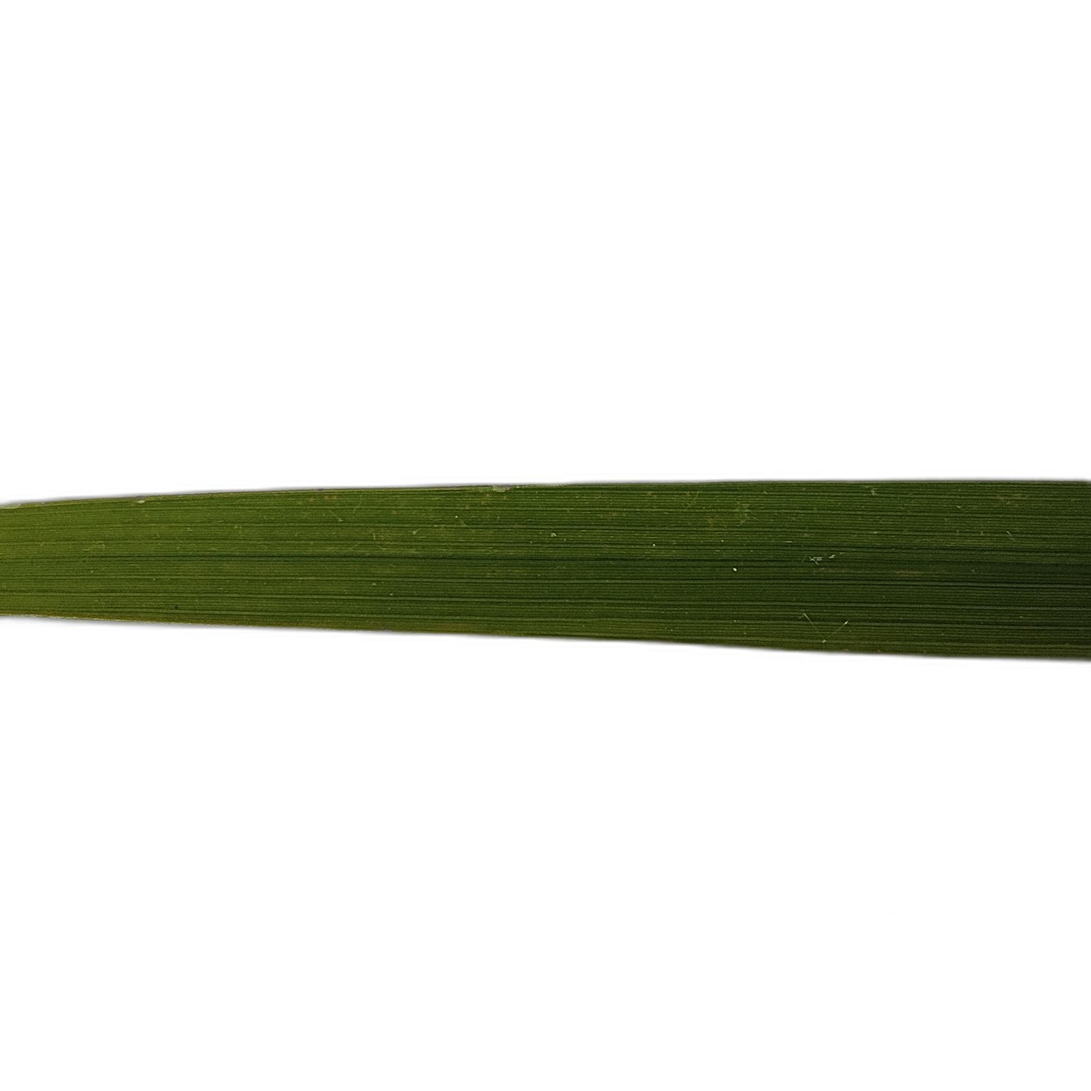Healthy: (1, 483, 1089, 659)
